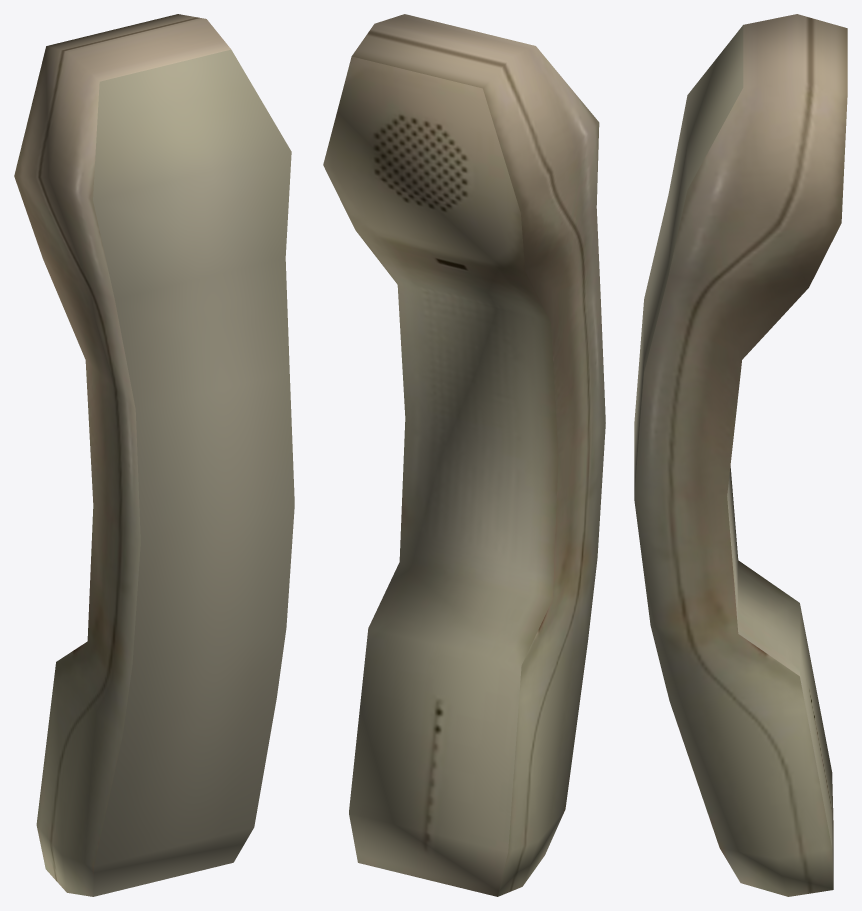
The model's file is wall_phone.glb.
3 views of the same model, side by side, from view 1: azimuth 30°, elevation 25°; view 2: azimuth 150°, elevation 25°; view 3: azimuth 270°, elevation 25° (orthographic). The views are drawn at different scales.
Visible parts, largest first — view 1: Telephone; view 2: Telephone; view 3: Telephone.
Part boxes in pixels (<box>): Telephone: <box>14,14,294,896</box>; Telephone: <box>323,14,605,896</box>; Telephone: <box>634,14,847,896</box>.
Size of the model in its own units: 0.1905 by 0.7401 by 0.1753.
Materials: 1 (1 with a texture image).
